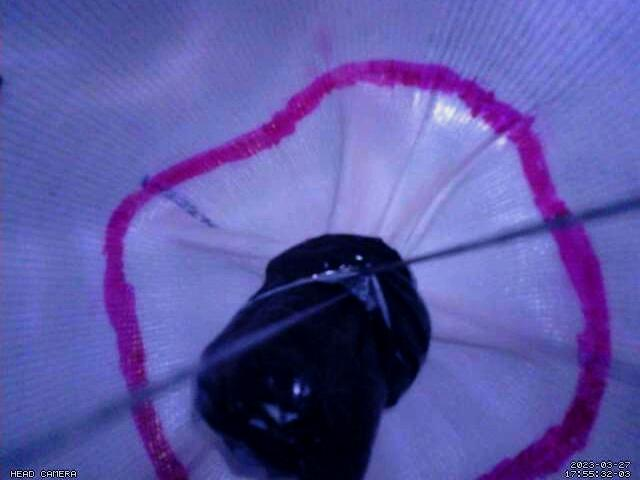red-circle: (102, 57, 613, 480)
